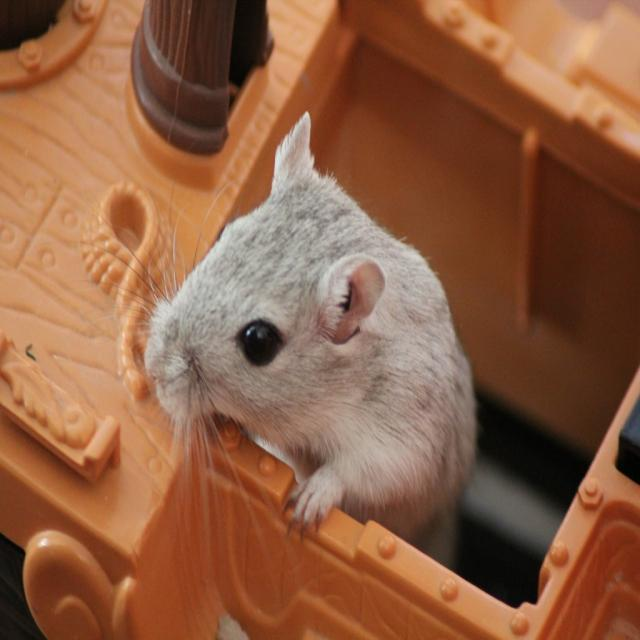rat: (139, 108, 479, 544)
